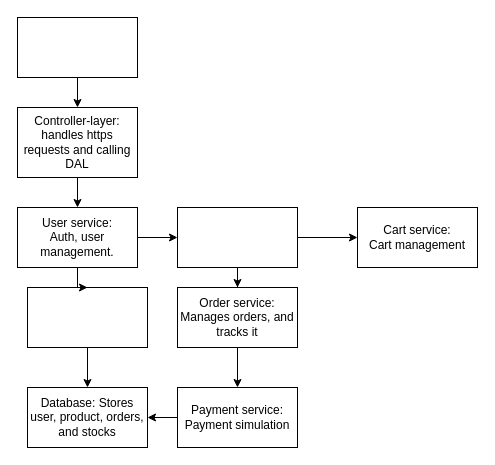
Image size: 495x465. Some labels were removed from this diagram. The centre of each missing label's shape, as x and y in pixels:
"DAL: Crud operations for the user, order and product." belongs at point 87,317.
"Front-end: Webapp interacting with API" belongs at point 77,47.
"Product service: Crud for products" belongs at point 237,237.
